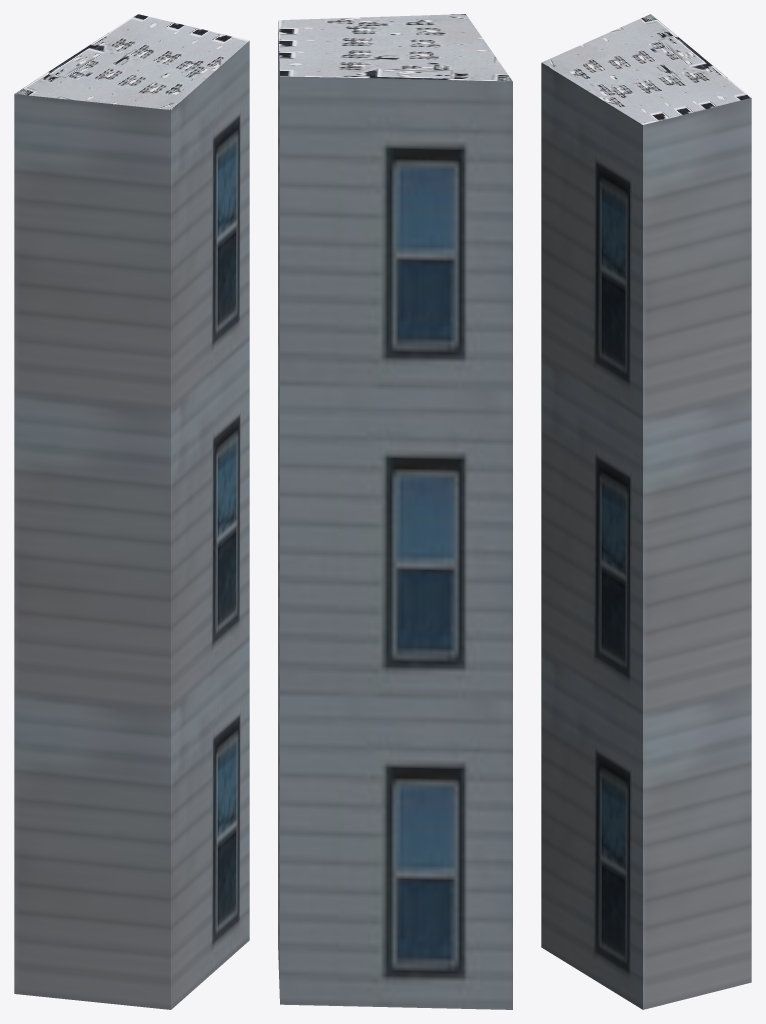
File: ResTex__1482.fbx
3 renders of one model, left to right at view 1: azimuth 30°, elevation 25°; view 2: azimuth 150°, elevation 25°; view 3: azimuth 270°, elevation 25°, orthographic. The views are drawn at different scales.
Parts seen in each view (by area): view 1: CityEngineMaterial_18_m, CityEngineMaterial_8_m; view 2: CityEngineMaterial_18_m, CityEngineMaterial_8_m; view 3: CityEngineMaterial_18_m, CityEngineMaterial_8_m.
Boxes of the visible parts, x1,y1,x2,y2 form: CityEngineMaterial_18_m: (14, 41, 249, 1009); CityEngineMaterial_8_m: (15, 14, 249, 109); CityEngineMaterial_18_m: (278, 22, 512, 1009); CityEngineMaterial_8_m: (278, 14, 512, 81); CityEngineMaterial_18_m: (541, 63, 751, 1009); CityEngineMaterial_8_m: (541, 14, 751, 124).
Size of the model in its own units: 2.42 by 9 by 1.94.
Materials: 2 (2 with a texture image).
